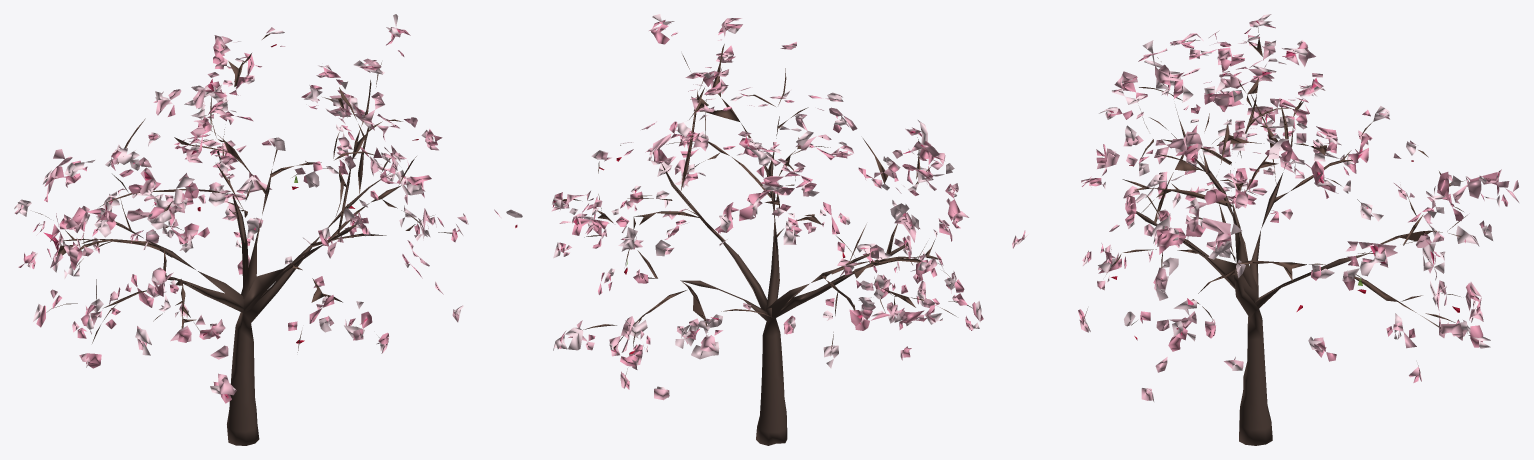
3 views of the same model, side by side, from view 1: azimuth 30°, elevation 25°; view 2: azimuth 150°, elevation 25°; view 3: azimuth 270°, elevation 25° (orthographic). The views are drawn at different scales.
Visible parts, largest first — view 1: body; view 2: body; view 3: body.
Boxes of the visible parts, x1=… form: body: x1=14, y1=14, x2=522, y2=445; body: x1=551, y1=14, x2=983, y2=445; body: x1=1012, y1=14, x2=1518, y2=445.
Size of the model in its own units: 4.67 by 4.15 by 4.46.
Materials: 1 (1 with a texture image).
